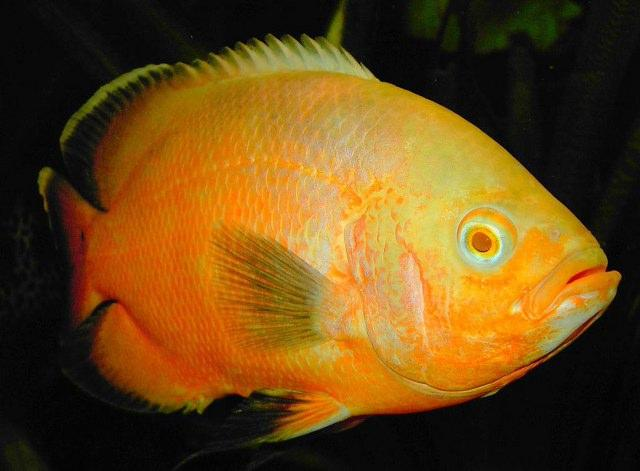Mulut: (542, 222, 632, 334)
Sirip Anal: (46, 290, 204, 422)
Sirip Dada: (202, 204, 368, 391)
Sirip Ekor: (24, 144, 108, 356)
Sirip Perut: (178, 372, 350, 470)
Sirip Punggung: (50, 18, 388, 220)
